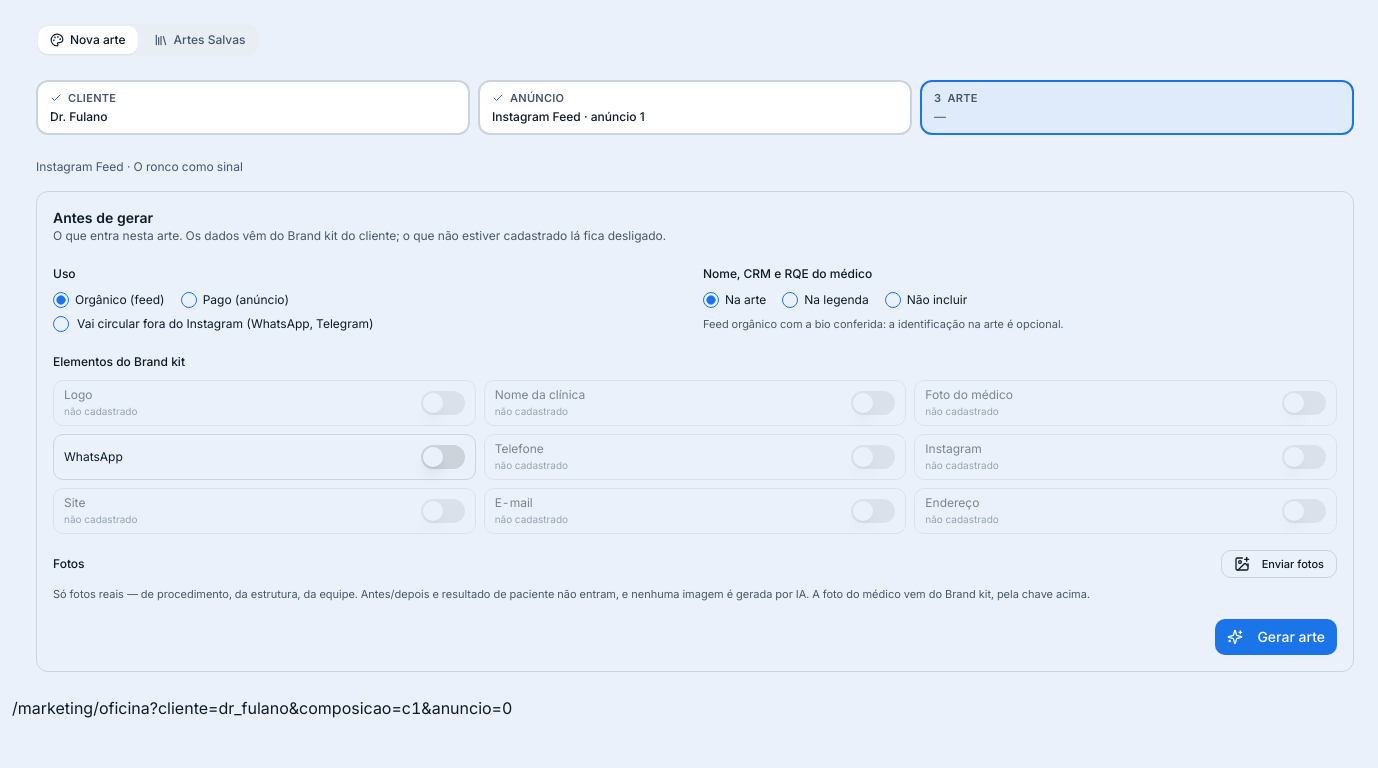
Oficina › Nova arte › gerar manda as escolhas da pré-etapa e abre a arte nova
Click the switch named "Incluir WhatsApp" at (443, 457), box [421, 445, 465, 469]
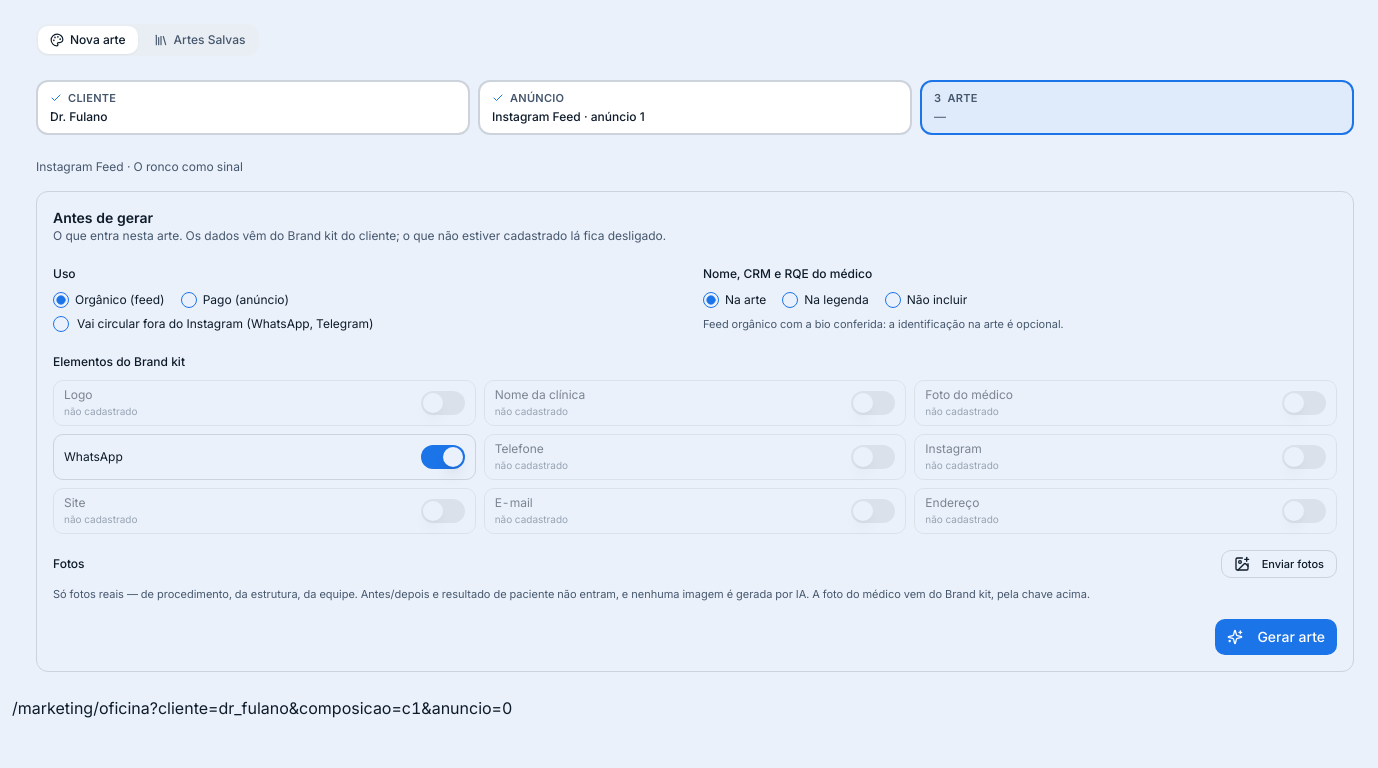
Click the radio button named "Não incluir" next to "Não incluir" at (893, 300), box [885, 292, 901, 308]
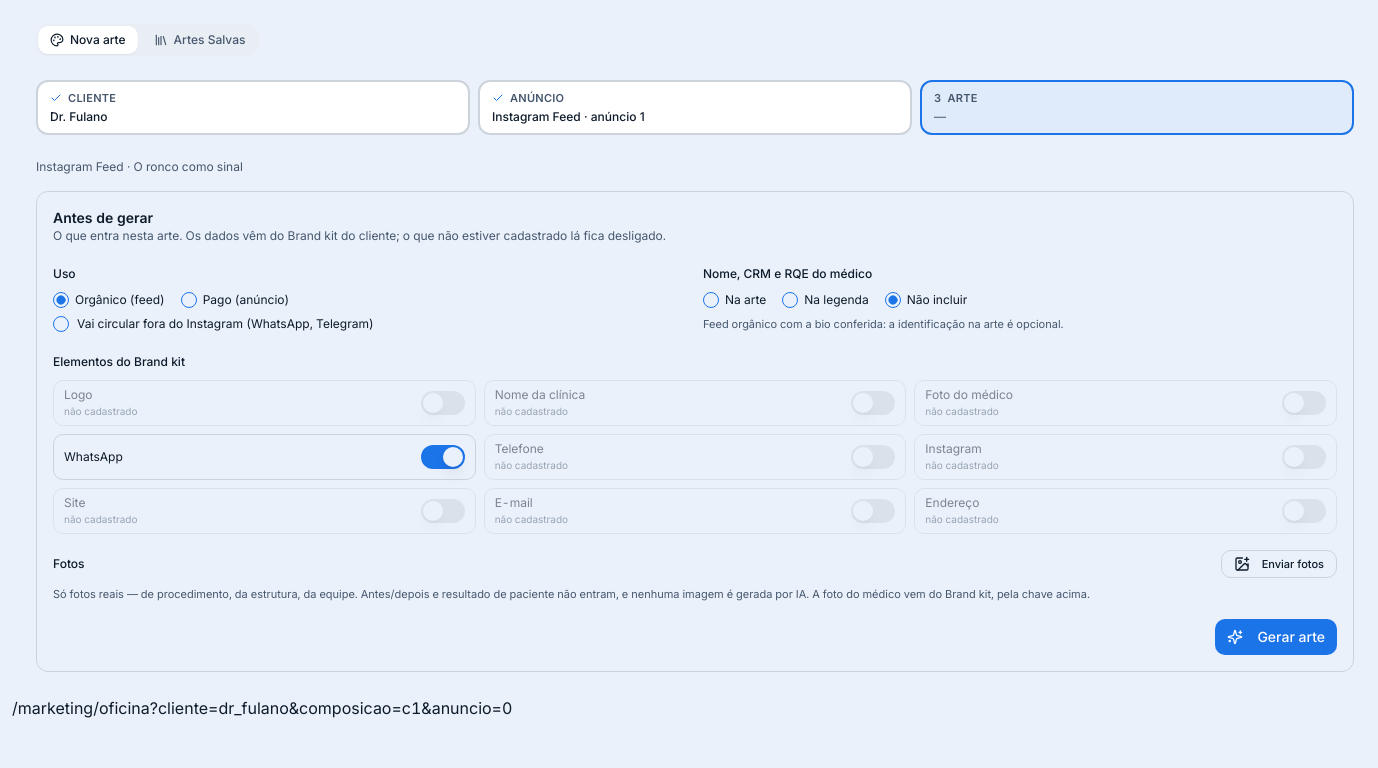
Click the button "Gerar arte" at (1276, 636), box [1215, 618, 1337, 654]
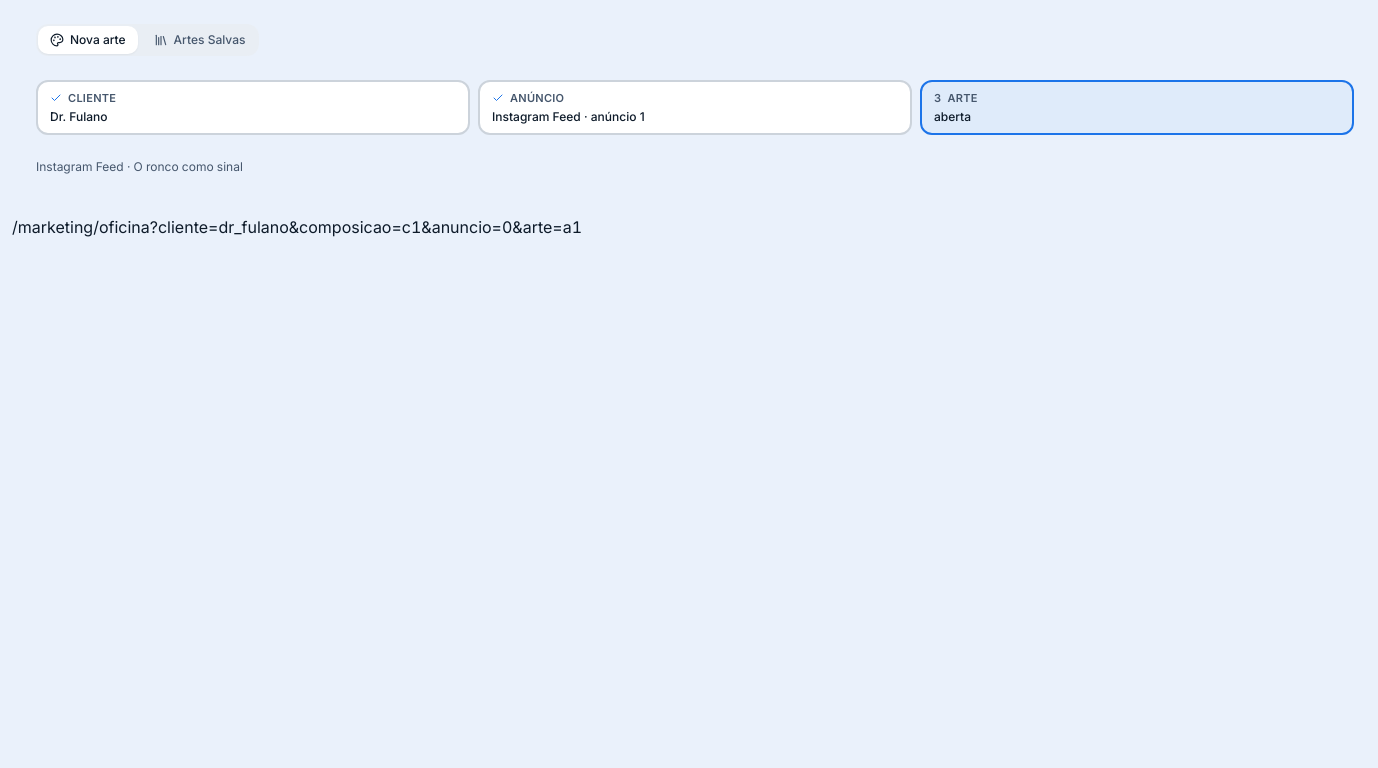
Now the text with test id "endereco" shows "arte=a1", box [12, 216, 582, 236]
